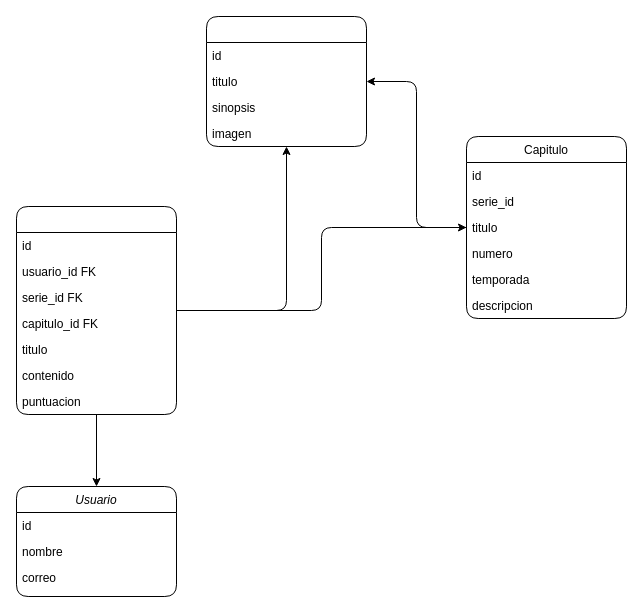
Some shapes in this 643 by 613 pixel diagram are drawn without their labels. The box of each missing label's shape, as (x1, y1, x2, y2) in pixels:
Reseña: (16, 206, 176, 414)
Serie: (206, 16, 366, 146)
